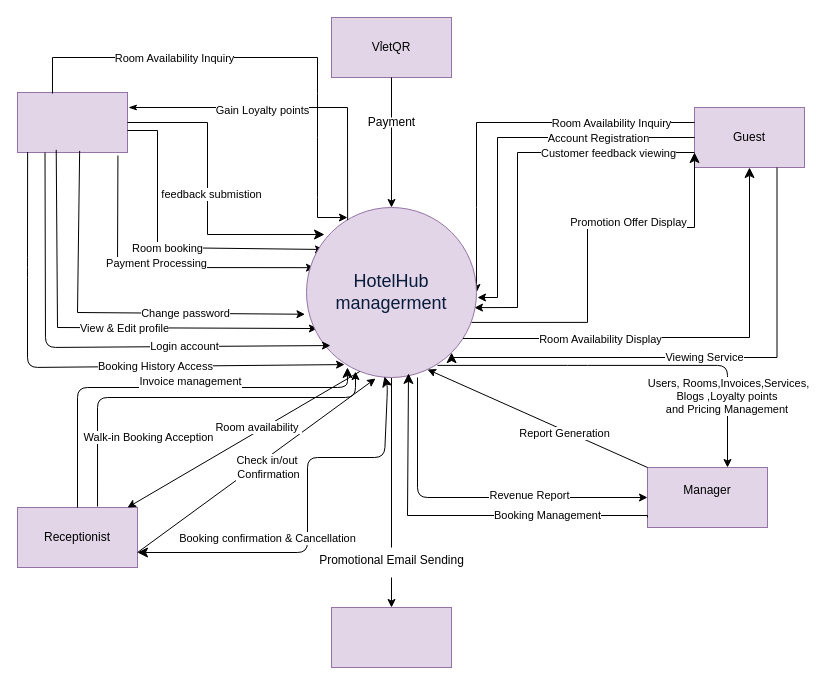
Some shapes in this 826 by 685 pixel diagram are drawn without their labels. The box of each missing label's shape, as (x1, y1, x2, y2) in pixels:
Customer: (16, 92, 128, 152)
Gmaiil: (330, 606, 452, 668)
